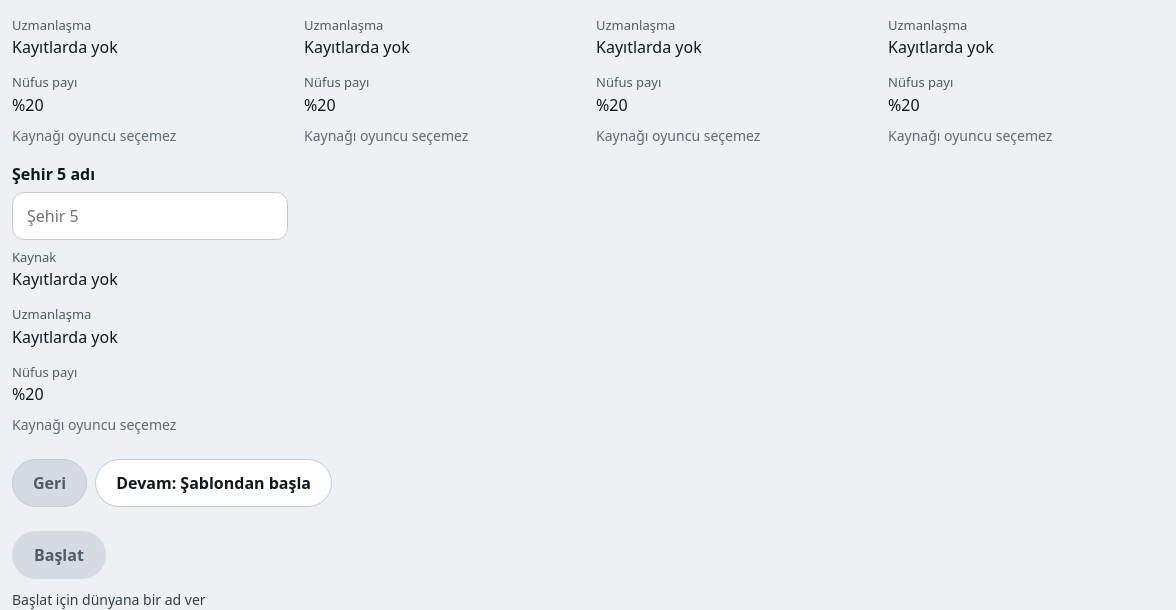
Scenario: Kurucu adım kabuğu › adim_gezgini_nav_ve_devam_geri
This screenshot has width=1176, height=610.
(page scrolled)
Expected: the button "Geri" is disabled, [12, 459, 87, 507]
Click the button "Devam: Şablondan başla": {"x": 214, "y": 483} [95, 459, 332, 507]
(page scrolled)
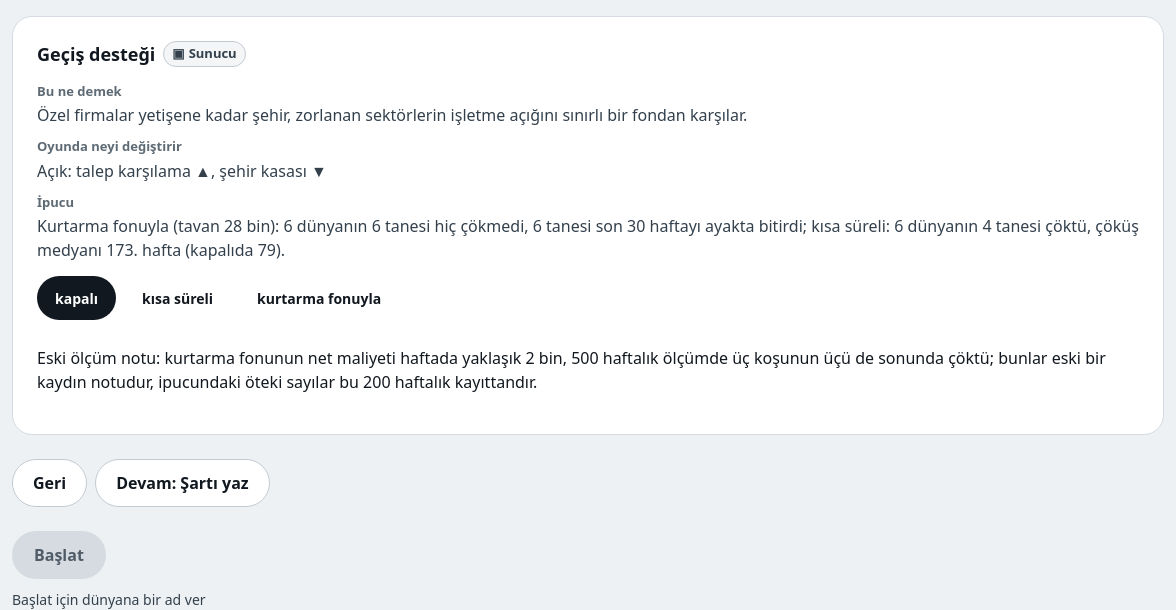
Expected: the button "Geri" is enabled, [12, 459, 87, 507]
